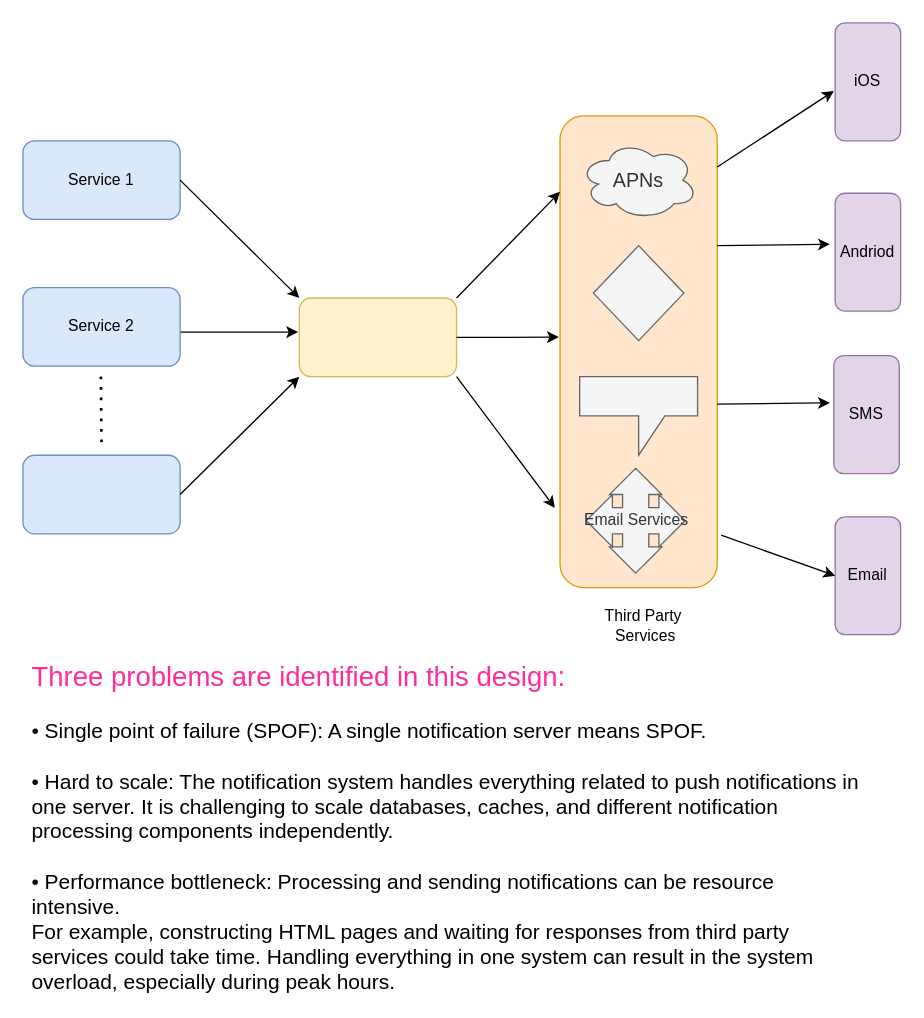
Some shapes in this 924 by 1018 pixel diagram are drawn without their labels. Each missing label, with the centre of its shape:
"FCM" goes at (638,292).
"Notification System" goes at (377,337).
"Service N" goes at (101,494).
"SMS Services" goes at (638,415).
